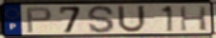1: (161, 5, 175, 33)
7: (59, 5, 82, 34)
H: (179, 5, 209, 32)
P: (24, 6, 53, 34)
S: (87, 4, 117, 34)
U: (116, 5, 148, 35)
